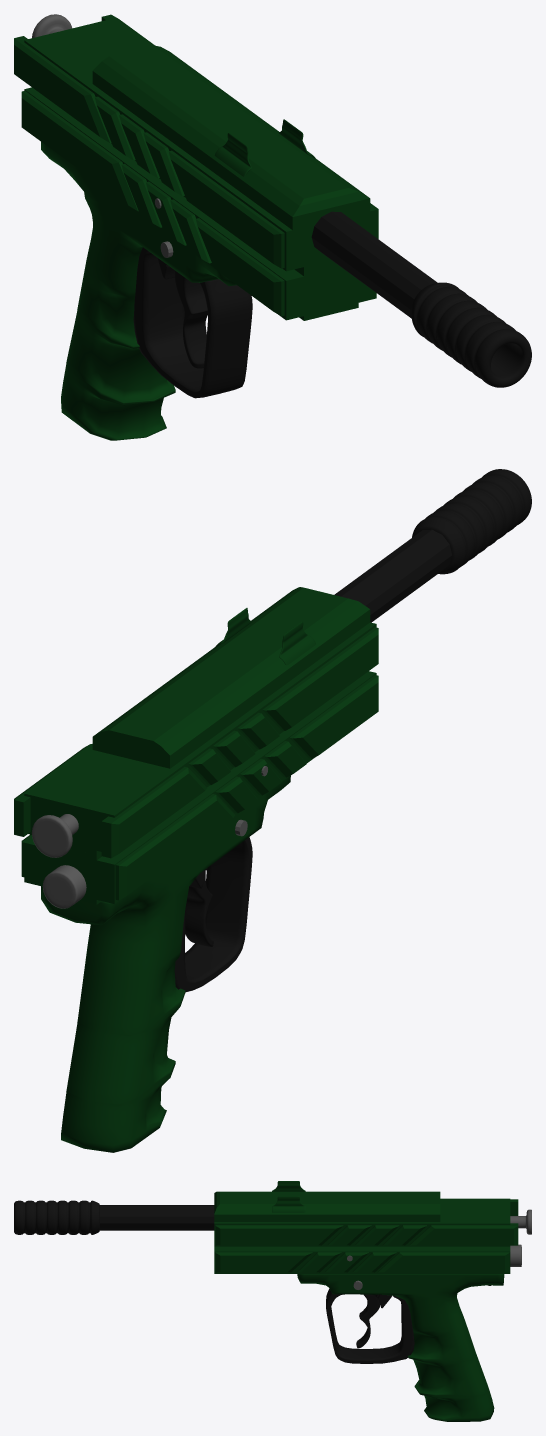
Rendered from gun.obj.
The picture shows the model from 3 angles, top to bottom: view 1: azimuth 30°, elevation 25°; view 2: azimuth 150°, elevation 25°; view 3: azimuth 270°, elevation 25°; orthographic projection. The views are drawn at different scales.
Visible parts, largest first — view 1: Cube.035, Cube.034_Mesh, Cube.032_Mesh.002, Cylinder.040_Mesh.001, Cube.036, Cylinder.041, Cube.022_Mesh.012, Cube.026_Mesh.008, Cube.023_Mesh.011, Cube.027_Mesh.007, Cube.024_Mesh.010, Cube.025_Mesh.009 (+3 smaller); view 2: Cube.034_Mesh, Cube.035, Cube.032_Mesh.002, Cylinder.040_Mesh.001, Cube.036, Cylinder.041, Cube.023_Mesh.011, Cube.026_Mesh.008, Cube.022_Mesh.012, Cube.027_Mesh.007, Cube.024_Mesh.010, Cube.025_Mesh.009 (+4 smaller); view 3: Cube.034_Mesh, Cube.035, Cylinder.041, Cylinder.040_Mesh.001, Cube.036, Cube.026_Mesh.008, Cube.022_Mesh.012, Cube.023_Mesh.011, Cube.032_Mesh.002, Cube.027_Mesh.007, Cube.024_Mesh.010, Cube.025_Mesh.009 (+3 smaller).
Boxes of the visible parts, x1=… form: Cube.035: x1=24, y1=18, x2=376, y2=271; Cube.034_Mesh: x1=41, y1=142, x2=236, y2=440; Cube.032_Mesh.002: x1=133, y1=247, x2=252, y2=398; Cylinder.040_Mesh.001: x1=411, y1=282, x2=531, y2=387; Cube.036: x1=24, y1=87, x2=376, y2=320; Cylinder.041: x1=311, y1=211, x2=437, y2=318; Cube.022_Mesh.012: x1=168, y1=150, x2=378, y2=268; Cube.026_Mesh.008: x1=21, y1=91, x2=138, y2=211; Cube.023_Mesh.011: x1=14, y1=14, x2=154, y2=143; Cube.027_Mesh.007: x1=196, y1=218, x2=284, y2=316; Cube.024_Mesh.010: x1=95, y1=96, x2=184, y2=196; Cube.025_Mesh.009: x1=121, y1=163, x2=211, y2=263; Cube.034_Mesh: x1=41, y1=775, x2=290, y2=1152; Cube.035: x1=24, y1=587, x2=376, y2=855; Cube.032_Mesh.002: x1=174, y1=837, x2=252, y2=991; Cylinder.040_Mesh.001: x1=412, y1=469, x2=531, y2=574; Cube.036: x1=24, y1=671, x2=376, y2=904; Cylinder.041: x1=334, y1=529, x2=452, y2=622; Cube.023_Mesh.011: x1=14, y1=744, x2=206, y2=858; Cube.026_Mesh.008: x1=21, y1=794, x2=235, y2=900; Cube.022_Mesh.012: x1=262, y1=627, x2=378, y2=730; Cube.027_Mesh.007: x1=289, y1=675, x2=378, y2=758; Cube.024_Mesh.010: x1=189, y1=712, x2=279, y2=785; Cube.025_Mesh.009: x1=215, y1=741, x2=306, y2=813; Cube.034_Mesh: x1=297, y1=1274, x2=504, y2=1421; Cube.035: x1=214, y1=1191, x2=510, y2=1245; Cylinder.041: x1=100, y1=1205, x2=214, y2=1230; Cylinder.040_Mesh.001: x1=14, y1=1200, x2=99, y2=1234; Cube.036: x1=214, y1=1246, x2=510, y2=1273; Cube.026_Mesh.008: x1=377, y1=1252, x2=509, y2=1272; Cube.022_Mesh.012: x1=215, y1=1225, x2=343, y2=1245; Cube.023_Mesh.011: x1=409, y1=1199, x2=518, y2=1245; Cube.032_Mesh.002: x1=326, y1=1289, x2=414, y2=1363; Cube.027_Mesh.007: x1=215, y1=1252, x2=312, y2=1272; Cube.024_Mesh.010: x1=327, y1=1225, x2=426, y2=1245; Cube.025_Mesh.009: x1=297, y1=1252, x2=396, y2=1272.
Size of the model in its own units: 0.9305 by 3.28 by 6.82.
